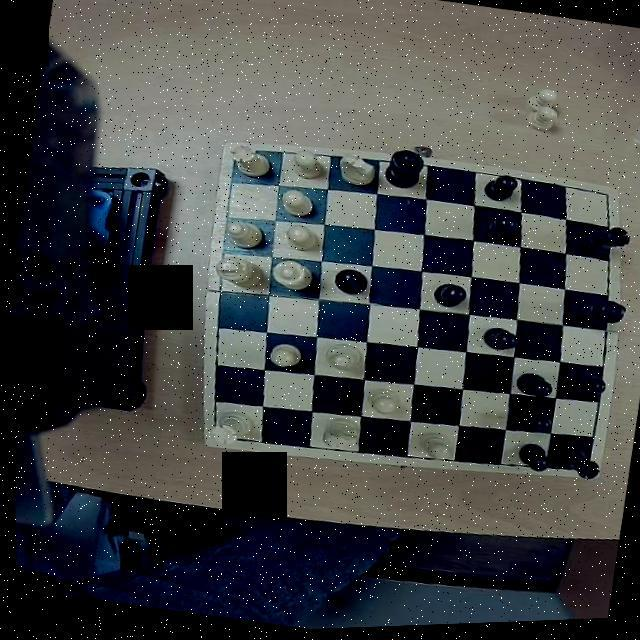chess-table-corners: (195, 414, 229, 450), (216, 144, 248, 179), (562, 450, 594, 482), (584, 190, 615, 218)
